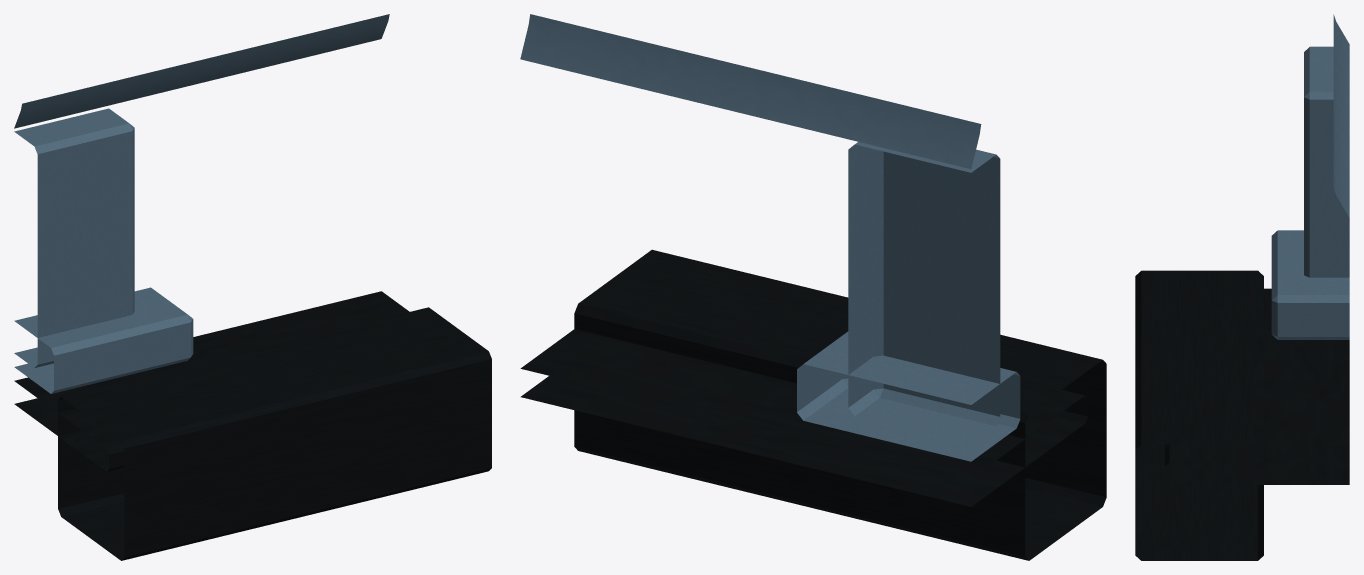
The model's file is cell_15.obj.
3 renders of one model, left to right at view 1: azimuth 30°, elevation 25°; view 2: azimuth 150°, elevation 25°; view 3: azimuth 270°, elevation 25°, orthographic. The views are drawn at different scales.
Parts seen in each view (by area): view 1: cell_15; view 2: cell_15; view 3: cell_15.
Part boxes in pixels (x1,y1,x2,y2): cell_15: [14, 14, 491, 560]; cell_15: [520, 14, 1106, 560]; cell_15: [1135, 14, 1349, 560].
Bounding box in the file's own units: 1 × 1 × 0.52.
